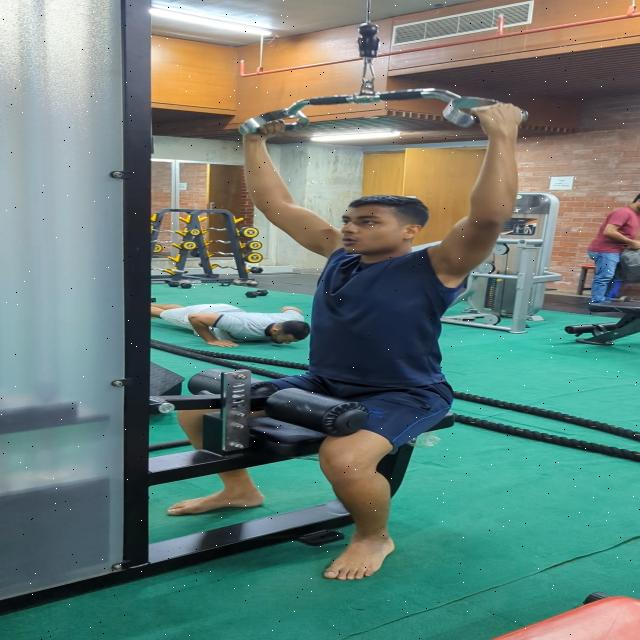Normal_LatPulldown: (193, 110, 554, 588)
